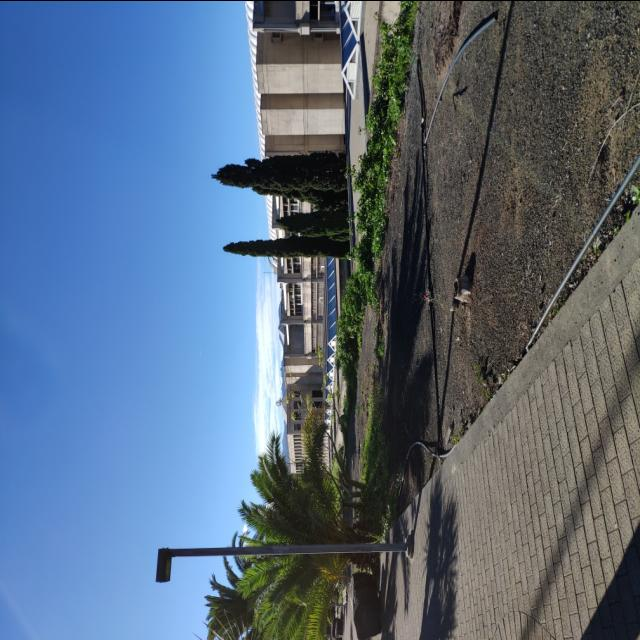Palm-Trees: (239, 436, 377, 640)
